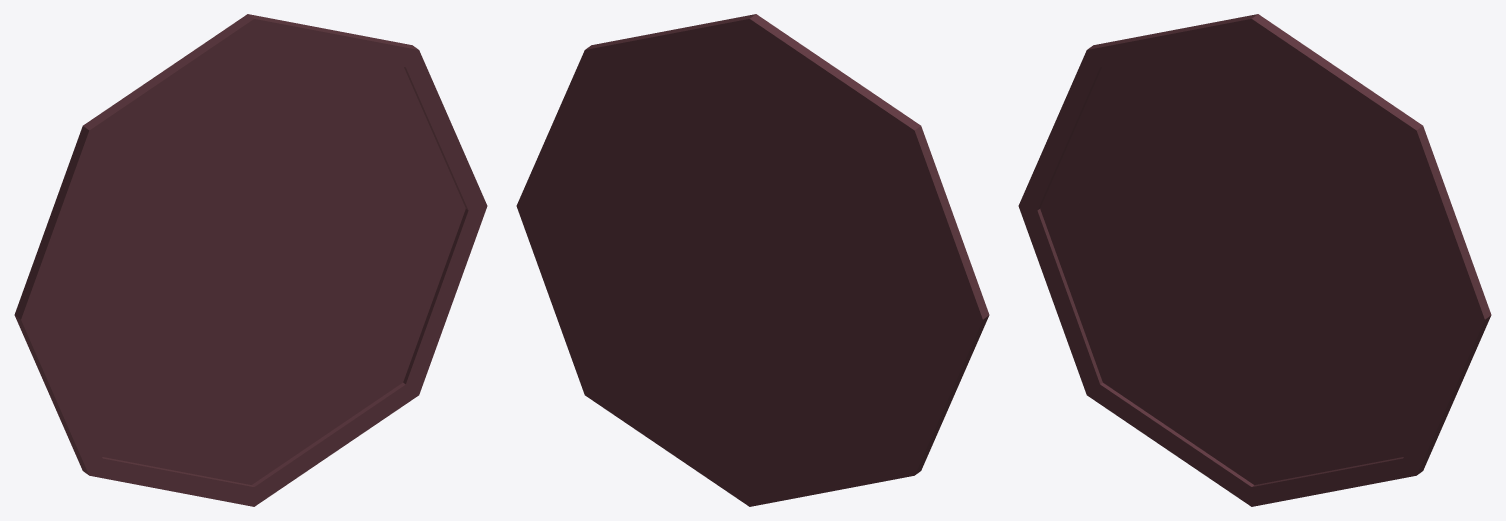
Rendered from mirror-circle-big.fbx.
The picture shows the model from 3 angles, left to right: view 1: azimuth 30°, elevation 25°; view 2: azimuth 150°, elevation 25°; view 3: azimuth 330°, elevation 25°; orthographic projection.
Visible parts, largest first — view 1: mirror-circle-big; view 2: mirror-circle-big; view 3: mirror-circle-big.
Part boxes in pixels (x1=…): mirror-circle-big: x1=14, y1=14, x2=487, y2=506; mirror-circle-big: x1=516, y1=14, x2=989, y2=506; mirror-circle-big: x1=1018, y1=14, x2=1491, y2=506.
Size of the model in its own units: 0.8941 by 0.8941 by 0.0218.
